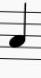A: (8, 2, 28, 67)
